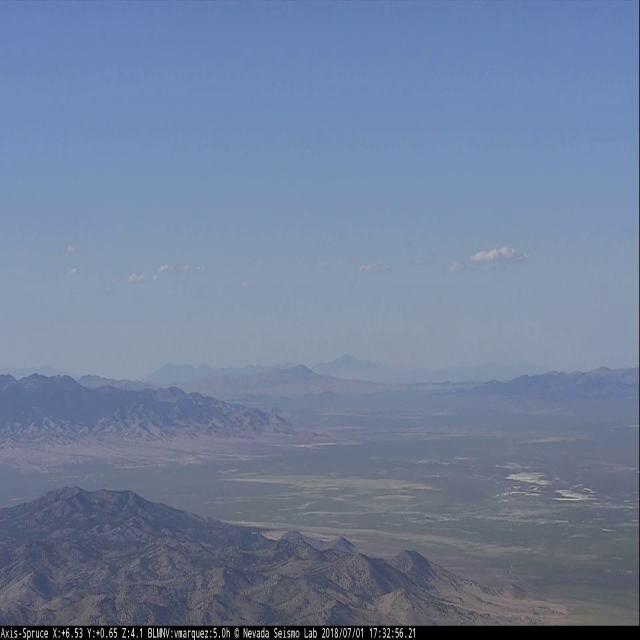smoke: (310, 340, 431, 384)
